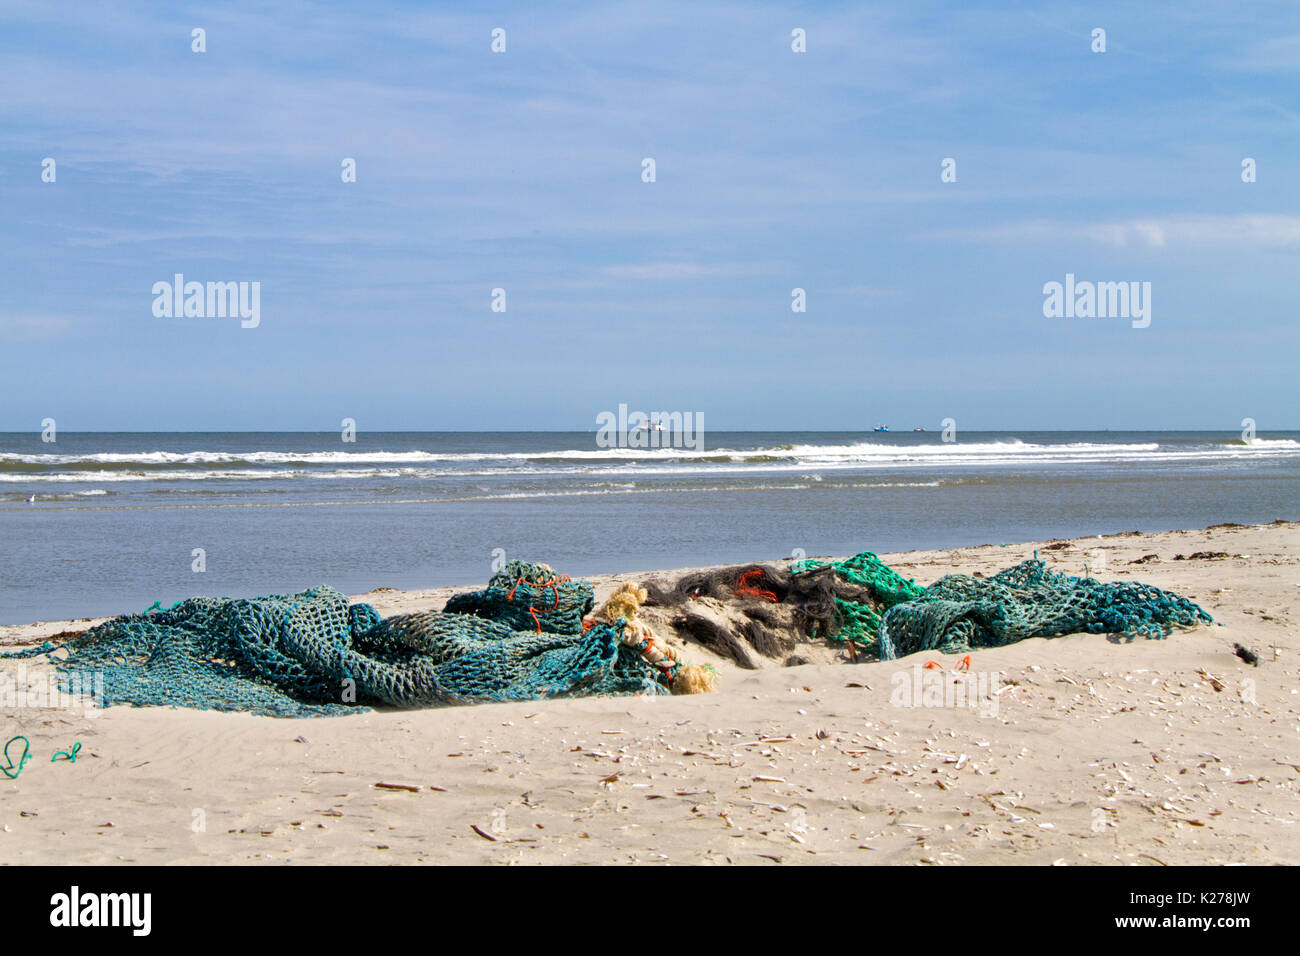fishingnet: (44, 558, 682, 719), (784, 545, 1217, 664)
